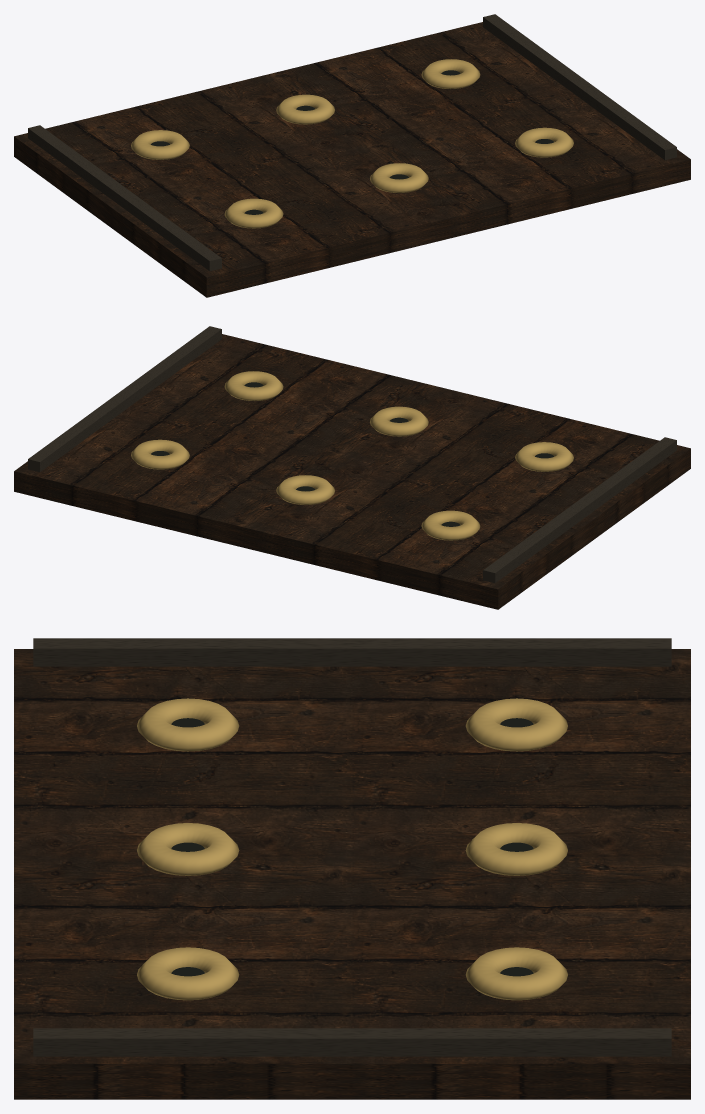
3 renders of one model, top to bottom at view 1: azimuth 30°, elevation 25°; view 2: azimuth 150°, elevation 25°; view 3: azimuth 270°, elevation 25°, orthographic. The views are drawn at different scales.
Parts seen in each view (by area): view 1: d-board; view 2: d-board; view 3: d-board.
Part boxes in pixels (<box>): d-board: <box>14,14,690,297</box>; d-board: <box>14,326,690,609</box>; d-board: <box>14,638,690,1099</box>.
Bounding box in the file's own units: 0.58 × 0.035 × 0.4.
Materials: 4 (2 with a texture image).
